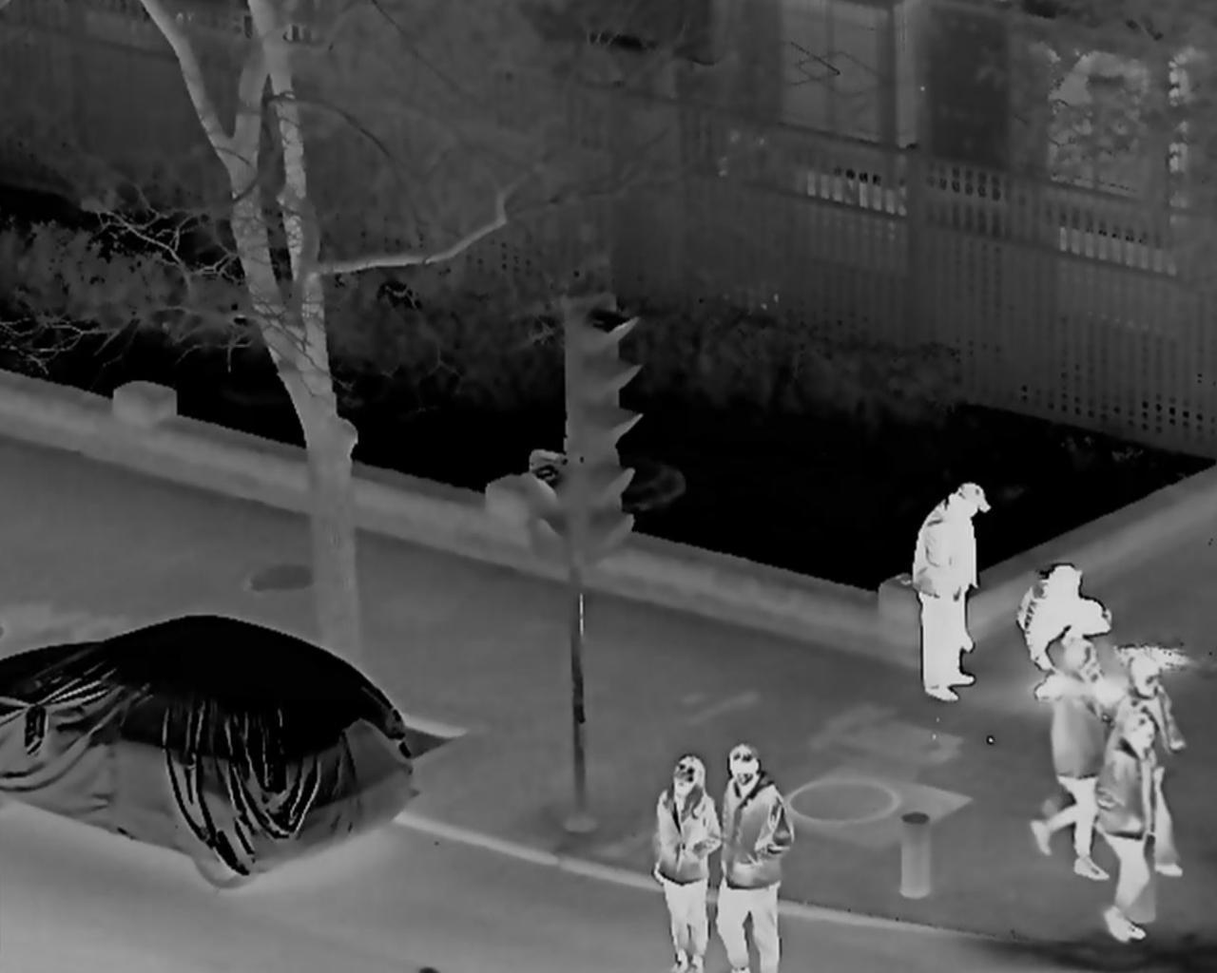person: (714, 749, 796, 973), (911, 479, 985, 706), (1122, 659, 1190, 879), (1037, 646, 1100, 878), (647, 754, 713, 973), (1097, 715, 1151, 943), (1016, 565, 1099, 674)
